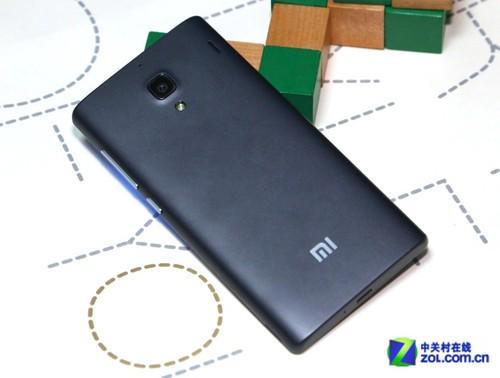phone: (82, 17, 412, 322)
